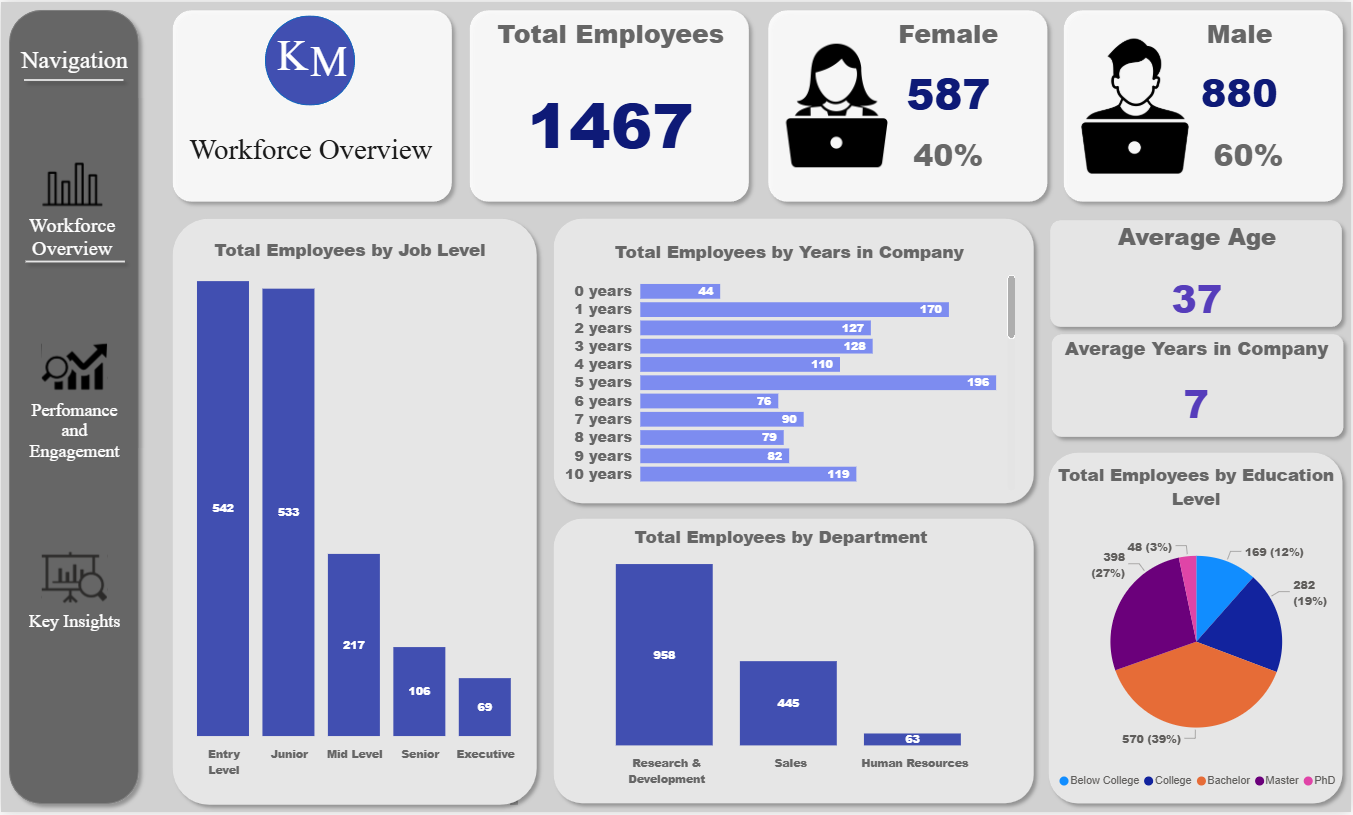

Layout of this report page (visuals, bound fields, positions):
{"tool":"powerbi","page":{"name":"Workforce Overview","canvas":[1500,900],"ordinal":0},"visuals":[{"type":"group","id":"g1","title":"Grupa 1","box":[181.7,0,1317.9,231],"z":0},{"type":"textbox","box":[301.7,26.7,50,78.3],"z":0,"group":"g2"},{"type":"cardVisual","title":"Total Employees","fields":{"Data":["Measure Table.Total Employees"]},"box":[545,15,265,198.3],"z":1000},{"type":"textbox","box":[338.4,33.4,50,78.3],"z":1000,"group":"g2"},{"type":"textbox","box":[161.7,145,365,80],"z":2000},{"type":"shape","box":[182,231.3,422.6,669.3],"z":3000},{"type":"shape","box":[0,0,162,900],"z":4000},{"type":"shape","box":[181.7,0,328.3,231],"z":5000,"group":"g1"},{"type":"shape","box":[293.3,15,100,100],"z":5000},{"type":"shape","box":[842.9,0,328.3,231],"z":6000,"group":"g1"},{"type":"cardVisual","title":"Female","fields":{"Data":["Measure Table.Female"]},"box":[950,15,205,130],"z":6000},{"type":"image","box":[860,25,137.5,180],"z":6500,"group":"g1"},{"type":"shape","box":[1171.2,0,328.3,231],"z":7000,"group":"g1"},{"type":"cardVisual","title":"Female","fields":{"Data":["Measure Table.% Female"]},"box":[950,102.5,205,130],"z":7000},{"type":"shape","box":[512.3,0,328.3,231],"z":8000,"group":"g1"},{"type":"cardVisual","title":"Male","fields":{"Data":["Measure Table.Male"]},"box":[1270,15,212.5,130],"z":8000},{"type":"shape","box":[1156.7,233.3,342.2,136.7],"z":9000},{"type":"cardVisual","title":"Female","fields":{"Data":["Measure Table.% Male"]},"box":[1290,102.5,192.5,130],"z":10000},{"type":"image","box":[1185,32.5,150,165],"z":11000},{"type":"group","id":"g2","title":"Grupa 2","box":[301.7,26.7,86.7,85],"z":12000},{"type":"shape","box":[604.3,231.4,551.4,334.3],"z":13000},{"type":"clusteredColumnChart","title":"Total Employees by Job Level","fields":{"Category":["Human_Resources.Job_Level_"],"Y":["Measure Table.Total Employees"]},"box":[172.7,262.2,428.7,607.6],"z":14000},{"type":"clusteredBarChart","title":"Total Employees by Years in Company","fields":{"Category":["Human_Resources.Years in company"],"Y":["Measure Table.Total Employees"]},"box":[620,262.9,511.4,284.3],"z":15000},{"type":"shape","box":[604.3,565.7,551.4,334.3],"z":16000},{"type":"columnChart","title":"Total Employees by Department","fields":{"Category":["Human_Resources.Department"],"Y":["Measure Table.Total Employees"]},"box":[601.4,580,530,300],"z":17000},{"type":"shape","box":[1157.8,360,342.2,132.2],"z":18000},{"type":"cardVisual","title":"Average Age ","fields":{"Data":["Measure Table.Average Age"]},"box":[1171.1,242.2,314.4,136.7],"z":19000},{"type":"cardVisual","title":"Average Years in Company","fields":{"Data":["Measure Table.Average Years at Company"]},"box":[1171.7,370,313.3,121.7],"z":20000},{"type":"shape","box":[1155.6,492.2,344.4,407.8],"z":21000},{"type":"pieChart","title":"Total Employees by Education Level","fields":{"Y":["Measure Table.Total Employees"],"Category":["Human_Resources.Education_Level"]},"box":[1163.3,511.1,328.9,372.2],"z":22000},{"type":"textbox","box":[13.3,43.3,136.7,45],"z":23000},{"type":"shape","box":[16.7,61.7,128.3,50],"z":24000},{"type":"actionButton","title":"Workforce Overview ","box":[13.3,145,131.7,165],"z":25000},{"type":"actionButton","box":[18.3,360,126.7,158.3],"z":26000},{"type":"actionButton","box":[18.3,571.7,126.7,158.3],"z":27000},{"type":"shape","box":[18.3,263.3,128.3,50],"z":28000}]}

Visuals, with their boxes in screenshot pixels (x1, y1, x2, y2), scaled from the page's 1500x900 canvas onto the 1353x815 screenshot:
"Grupa 1" group: x1=164, y1=0, x2=1352, y2=209
textbox: x1=272, y1=24, x2=317, y2=95
"Total Employees" cardVisual: x1=492, y1=14, x2=731, y2=193
textbox: x1=305, y1=30, x2=350, y2=101
textbox: x1=146, y1=131, x2=475, y2=204
shape: x1=164, y1=209, x2=545, y2=814
shape: x1=0, y1=0, x2=146, y2=814
shape: x1=164, y1=0, x2=460, y2=209
shape: x1=265, y1=14, x2=355, y2=104
shape: x1=760, y1=0, x2=1056, y2=209
"Female" cardVisual: x1=857, y1=14, x2=1042, y2=131
image: x1=776, y1=23, x2=900, y2=186
shape: x1=1056, y1=0, x2=1352, y2=209
"Female" cardVisual: x1=857, y1=93, x2=1042, y2=211
shape: x1=462, y1=0, x2=758, y2=209
"Male" cardVisual: x1=1146, y1=14, x2=1337, y2=131
shape: x1=1043, y1=211, x2=1352, y2=335
"Female" cardVisual: x1=1164, y1=93, x2=1337, y2=211
image: x1=1069, y1=29, x2=1204, y2=179
"Grupa 2" group: x1=272, y1=24, x2=350, y2=101
shape: x1=545, y1=210, x2=1042, y2=512
"Total Employees by Job Level" clusteredColumnChart: x1=156, y1=237, x2=542, y2=788
"Total Employees by Years in Company" clusteredBarChart: x1=559, y1=238, x2=1021, y2=496
shape: x1=545, y1=512, x2=1042, y2=814
"Total Employees by Department" columnChart: x1=542, y1=525, x2=1021, y2=797
shape: x1=1044, y1=326, x2=1352, y2=446
"Average Age " cardVisual: x1=1056, y1=219, x2=1340, y2=343
"Average Years in Company" cardVisual: x1=1057, y1=335, x2=1339, y2=445
shape: x1=1042, y1=446, x2=1352, y2=814
"Total Employees by Education Level" pieChart: x1=1049, y1=463, x2=1346, y2=800
textbox: x1=12, y1=39, x2=135, y2=80
shape: x1=15, y1=56, x2=131, y2=101
"Workforce Overview " actionButton: x1=12, y1=131, x2=131, y2=281
actionButton: x1=17, y1=326, x2=131, y2=469
actionButton: x1=17, y1=518, x2=131, y2=661
shape: x1=17, y1=238, x2=132, y2=284
